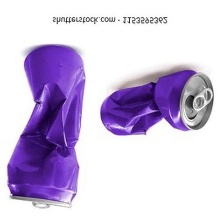can: (4, 39, 93, 210), (96, 69, 220, 146)
